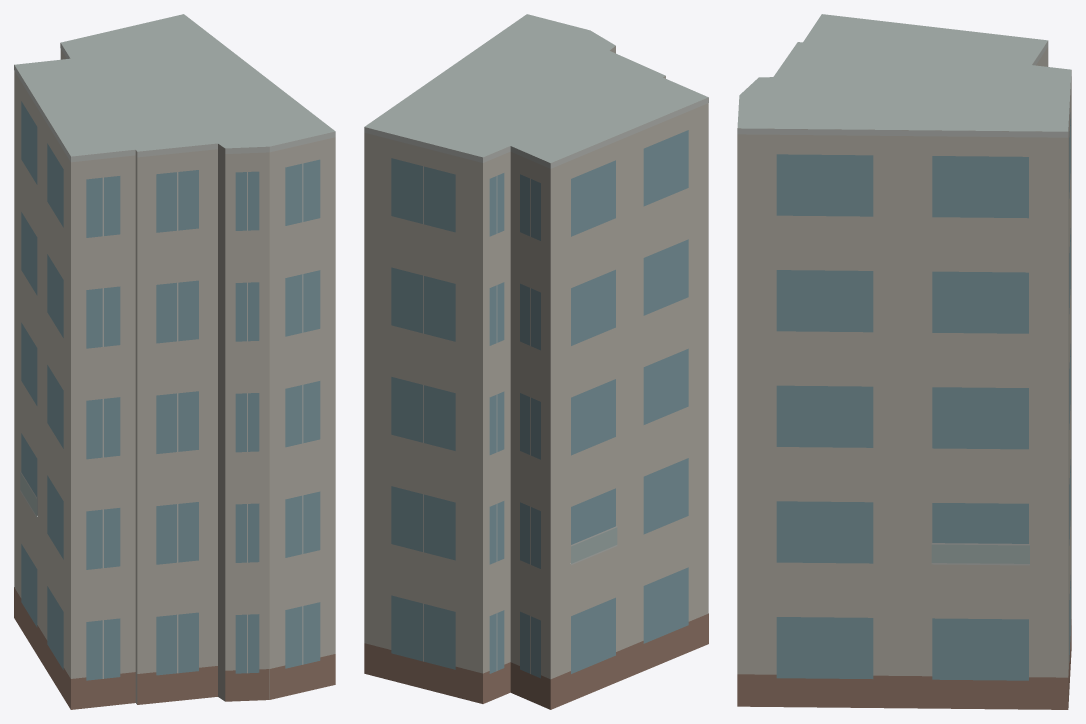
File: survey-upis-32819028.glb
3 renders of one model, left to right at view 1: azimuth 30°, elevation 25°; view 2: azimuth 150°, elevation 25°; view 3: azimuth 270°, elevation 25°, orthographic. The views are drawn at different scales.
Visible parts, largest first — view 1: survey-upis-32819028.tmp; view 2: survey-upis-32819028.tmp; view 3: survey-upis-32819028.tmp.
Boxes of the visible parts, x1,y1,x2,y2 form: survey-upis-32819028.tmp: (14, 14, 335, 709); survey-upis-32819028.tmp: (364, 14, 708, 709); survey-upis-32819028.tmp: (737, 14, 1071, 709).
Size of the model in its own units: 10.31 by 23.6 by 12.37.
